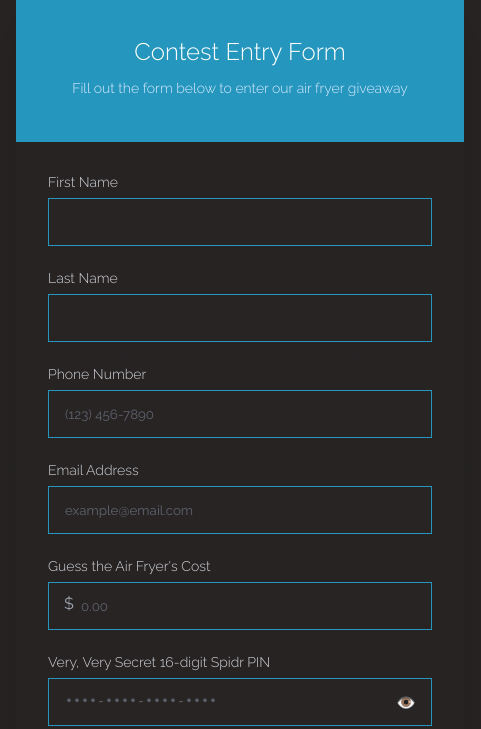
it: SpidrForm Component › Phone Number Validation › shows error for short phone number
Type "123456" into the field labelled "Phone Number". click: (240, 414)
box: [48,390,432,438]
(page scrolled)
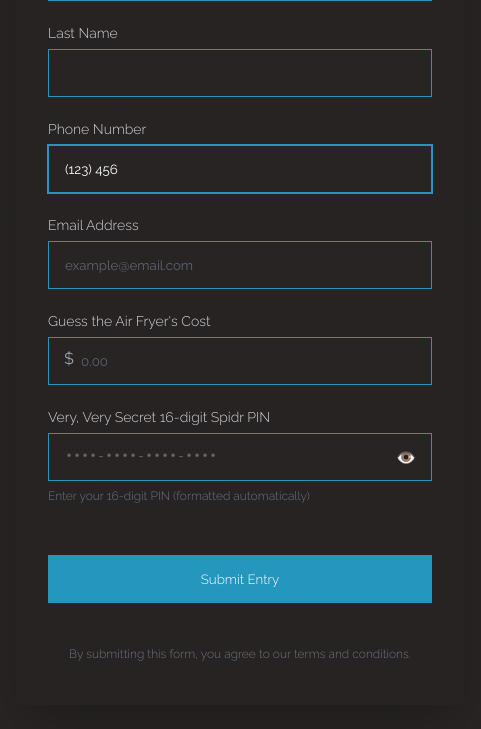
Click the button "Submit Entry". click: (240, 579)
box: [48,555,432,603]
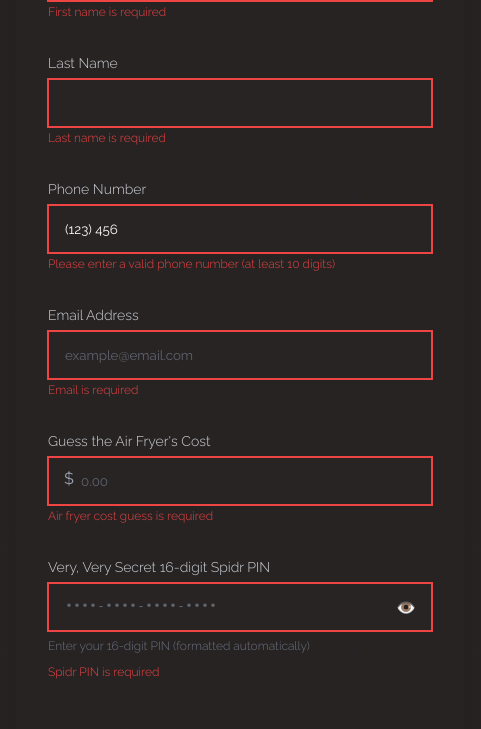
Expected: the text "Please enter a valid phone number (at least 10 digits)" is shown, [48,257,335,271]
